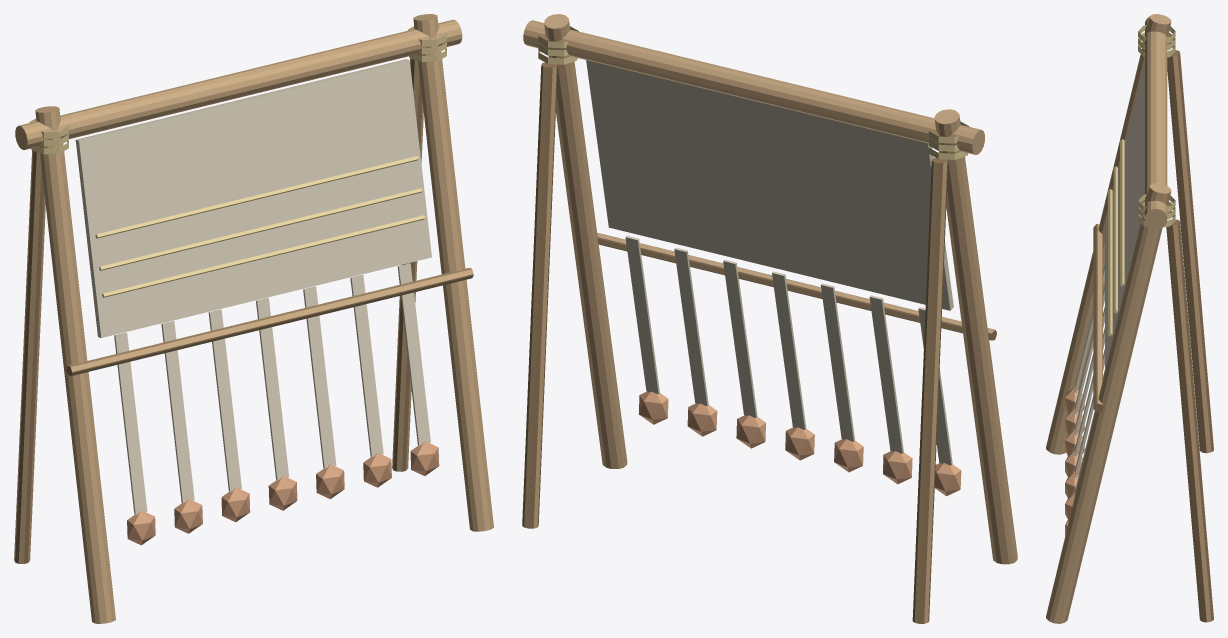
The model's file is loom.glb.
3 views of the same model, side by side, from view 1: azimuth 30°, elevation 25°; view 2: azimuth 150°, elevation 25°; view 3: azimuth 270°, elevation 25° (orthographic). The views are drawn at different scales.
Parts seen in each view (by area): view 1: loom; view 2: loom; view 3: loom.
Part boxes in pixels (bbox=[...]): loom: bbox=[14, 14, 493, 623]; loom: bbox=[522, 14, 1017, 623]; loom: bbox=[1046, 14, 1213, 623].
Bounding box in the file's own units: 1.84 × 1.91 × 0.6709.
